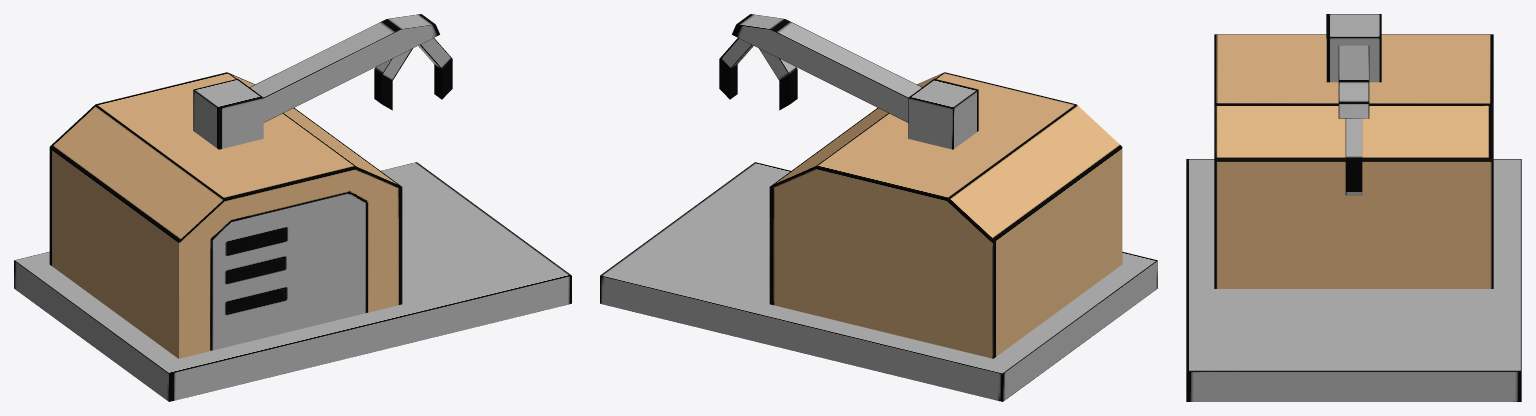
File: vehicle_depot.gltf
3 renders of one model, left to right at view 1: azimuth 30°, elevation 25°; view 2: azimuth 150°, elevation 25°; view 3: azimuth 270°, elevation 25°, orthographic. The views are drawn at different scales.
Parts seen in each view (by area): view 1: Cube; view 2: Cube; view 3: Cube.
Part boxes in pixels (<box>): Cube: <box>14,14,571,401</box>; Cube: <box>600,14,1157,401</box>; Cube: <box>1186,14,1521,401</box>.
Size of the model in its own units: 60 by 35.19 by 40.
Materials: 1 (1 with a texture image).
